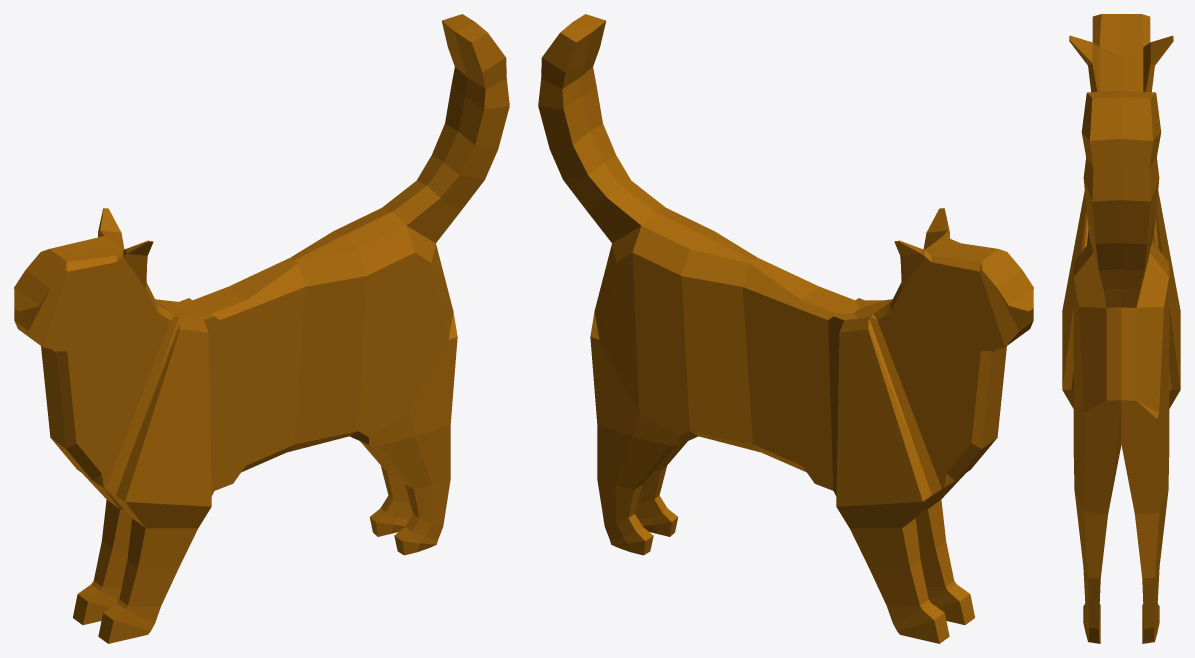
File: Low_Animal.002.gltf
3 views of the same model, side by side, from view 1: azimuth 30°, elevation 25°; view 2: azimuth 150°, elevation 25°; view 3: azimuth 270°, elevation 25° (orthographic). The views are drawn at different scales.
Parts seen in each view (by area): view 1: Low_Animal.002; view 2: Low_Animal.002; view 3: Low_Animal.002.
Part boxes in pixels (left/top/right/bottom): Low_Animal.002: left=14, top=14, right=509, bottom=643; Low_Animal.002: left=538, top=14, right=1033, bottom=643; Low_Animal.002: left=1062, top=14, right=1180, bottom=643.
Size of the model in its own units: 3.28 by 3.36 by 0.6072.
